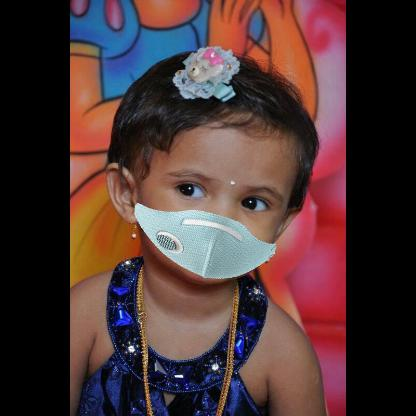FFP Mask: (128, 88, 288, 282)
